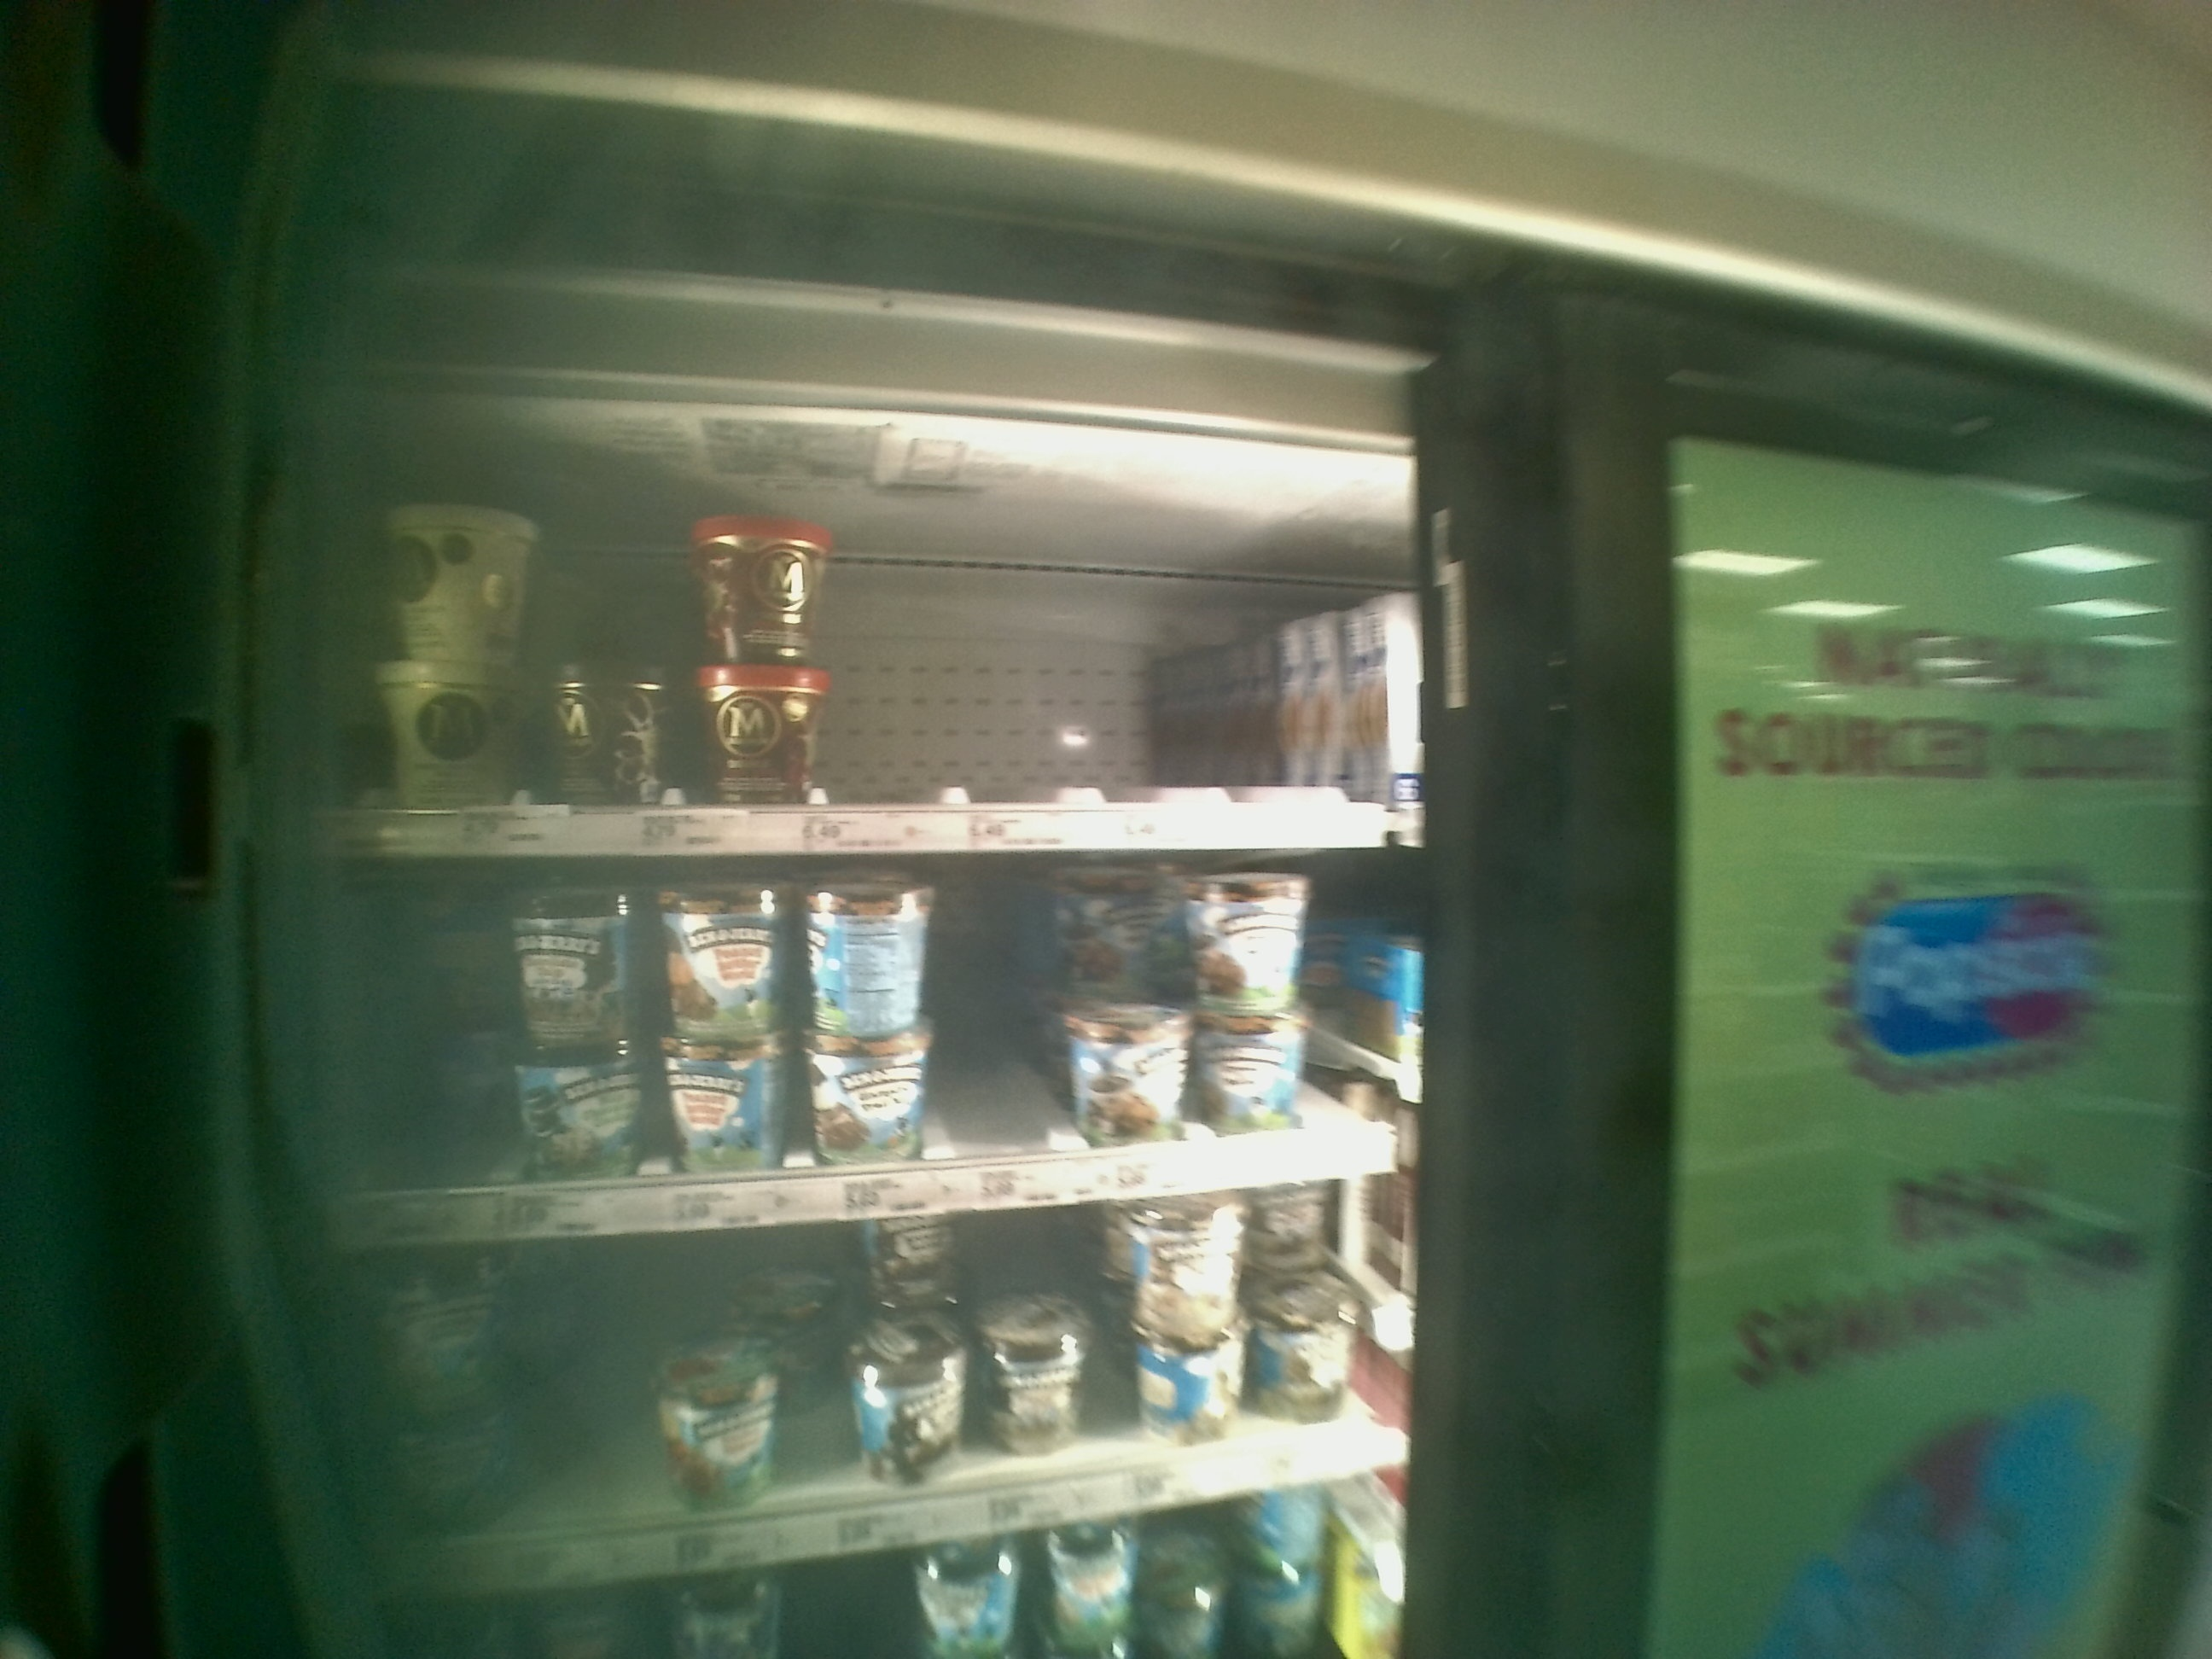ice-cream-shelf: (307, 392, 1425, 857), (310, 852, 1430, 1225)
